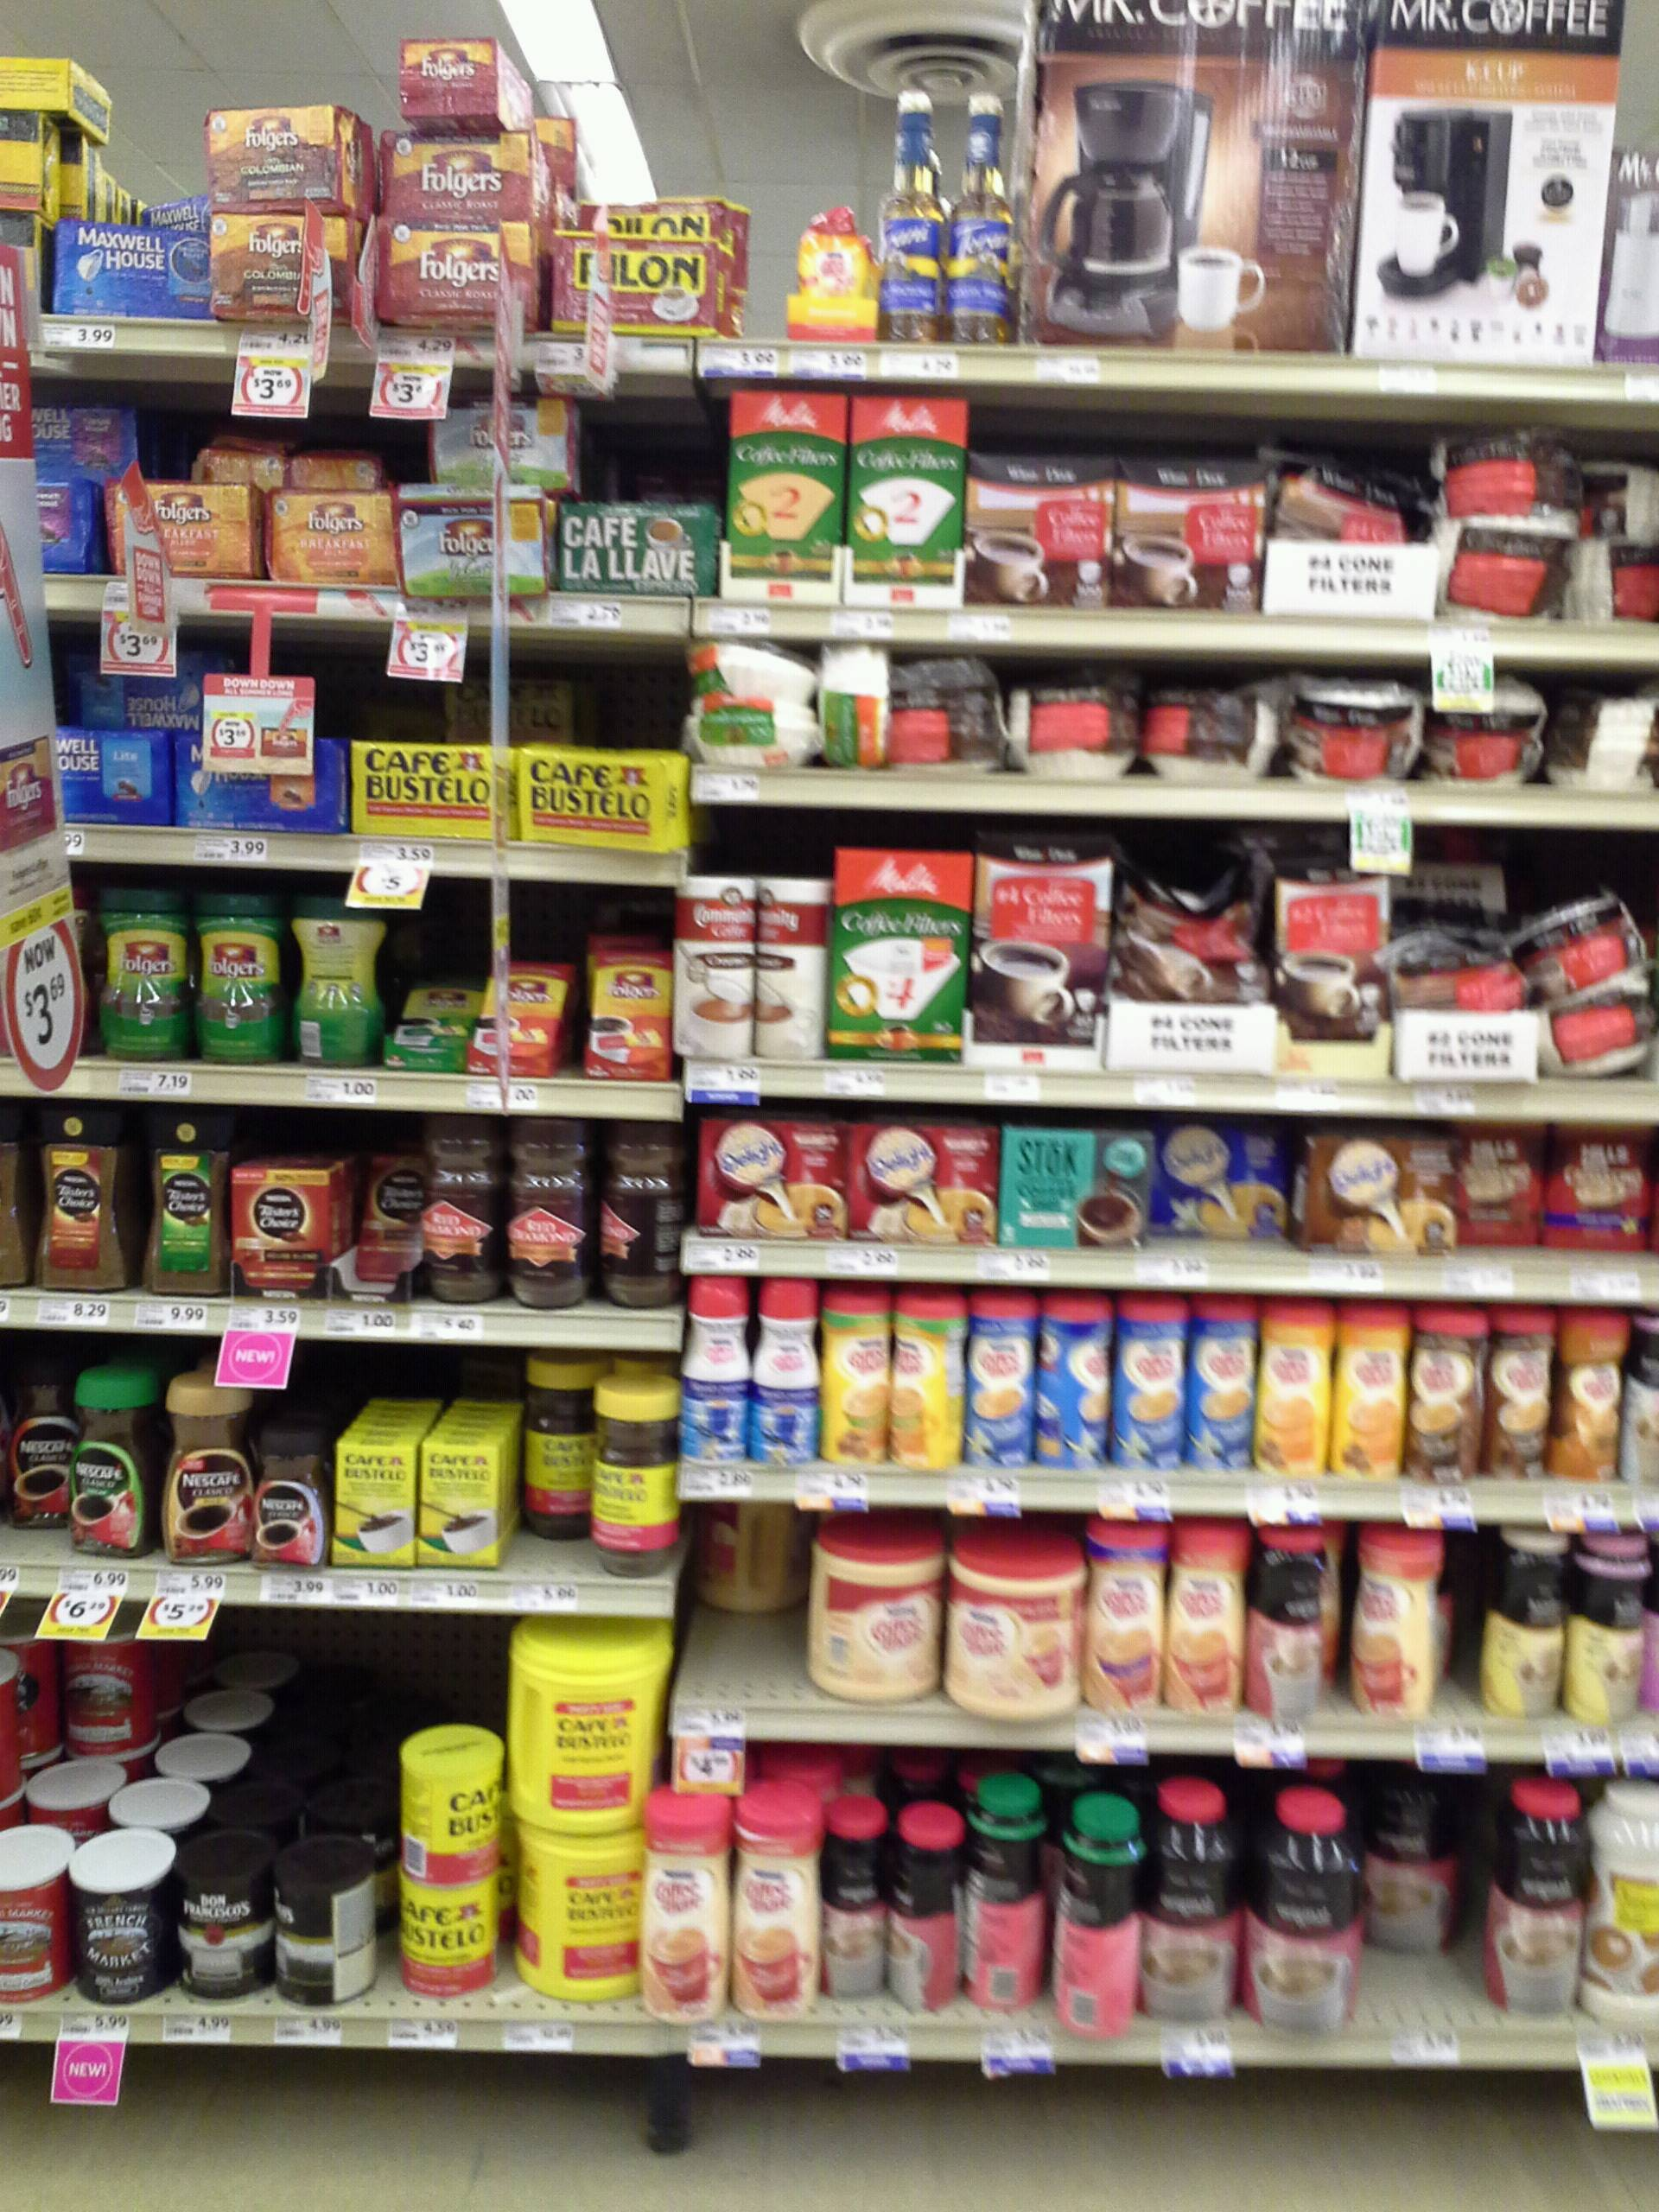product: (1025, 0, 1347, 354), (1351, 0, 1610, 359), (1108, 846, 1265, 1078), (974, 848, 1105, 1068), (836, 845, 965, 1066), (504, 1627, 643, 1827), (1274, 846, 1385, 1083), (1267, 449, 1422, 618), (1251, 1808, 1363, 2036), (727, 385, 842, 599), (847, 397, 962, 611), (1140, 1801, 1243, 2024), (951, 1548, 1084, 1719), (1391, 923, 1527, 1089), (810, 1534, 941, 1703), (1112, 458, 1253, 611), (965, 453, 1103, 608), (1488, 1791, 1581, 2015), (516, 1832, 633, 2010), (1295, 1134, 1455, 1258), (849, 1122, 997, 1251), (694, 1115, 840, 1244), (1004, 1125, 1150, 1254), (378, 218, 535, 334), (1345, 1531, 1441, 1719), (645, 1810, 730, 2020), (732, 1817, 817, 2027), (38, 1103, 132, 1292), (134, 1103, 228, 1292), (1056, 1817, 1136, 2038), (552, 232, 721, 336), (1366, 1766, 1459, 1956), (392, 481, 542, 594), (174, 730, 345, 829), (967, 1794, 1047, 2005), (592, 1385, 676, 1580), (1591, 1791, 1657, 2034), (354, 738, 511, 841), (96, 885, 188, 1059), (599, 1120, 683, 1312), (512, 1118, 596, 1310), (192, 895, 282, 1071), (159, 1381, 244, 1568), (1481, 1527, 1565, 1717), (425, 1118, 509, 1308), (284, 892, 375, 1066), (556, 498, 718, 594), (1246, 1527, 1326, 1717), (1154, 1129, 1291, 1238), (211, 214, 350, 322), (1570, 1533, 1649, 1724), (105, 481, 254, 580), (202, 111, 352, 211), (950, 96, 1011, 338), (1284, 674, 1417, 786), (71, 1371, 150, 1559), (51, 221, 204, 317), (1434, 517, 1570, 625), (674, 874, 753, 1059), (518, 745, 674, 838), (232, 1162, 335, 1301), (880, 98, 939, 338), (1086, 1527, 1161, 1709), (378, 129, 532, 216), (1431, 420, 1575, 512), (1168, 1527, 1241, 1709), (1544, 1122, 1647, 1251), (892, 657, 1006, 773), (1330, 1305, 1405, 1480), (1410, 1310, 1485, 1486), (756, 878, 829, 1057), (274, 1872, 369, 2008), (1009, 669, 1129, 777), (1148, 676, 1269, 784), (890, 1287, 960, 1472), (171, 1874, 270, 2001), (892, 1829, 962, 2010), (692, 1501, 805, 1611), (427, 392, 568, 479), (71, 1878, 169, 2003), (821, 1282, 885, 1468), (582, 946, 667, 1085), (1534, 981, 1659, 1075), (1039, 1299, 1105, 1477), (1256, 1298, 1323, 1475), (965, 1296, 1032, 1472), (1114, 1301, 1180, 1477), (1187, 1299, 1253, 1475), (755, 1280, 816, 1470), (685, 1277, 746, 1467), (1424, 688, 1544, 784), (404, 1750, 497, 1874), (59, 1630, 150, 1756), (823, 1818, 887, 1994), (521, 1359, 586, 1534), (64, 648, 218, 721), (1492, 1312, 1556, 1480), (1560, 1317, 1624, 1486), (265, 489, 385, 580), (247, 1432, 326, 1568), (333, 1437, 411, 1573), (399, 1883, 493, 1994), (3, 1362, 68, 1524), (1554, 691, 1659, 791), (56, 730, 166, 824), (1459, 1120, 1539, 1247), (396, 35, 509, 124), (349, 1148, 420, 1287), (416, 1444, 495, 1568), (1530, 895, 1650, 975), (796, 214, 873, 340), (383, 956, 465, 1071), (476, 956, 558, 1071), (821, 646, 889, 773), (690, 698, 812, 768), (0, 1879, 66, 2000), (439, 678, 572, 737), (24, 404, 122, 474), (1581, 453, 1659, 538), (1575, 543, 1659, 620), (692, 641, 809, 693), (28, 481, 89, 577), (579, 199, 720, 228), (289, 453, 380, 486), (197, 446, 279, 477)
